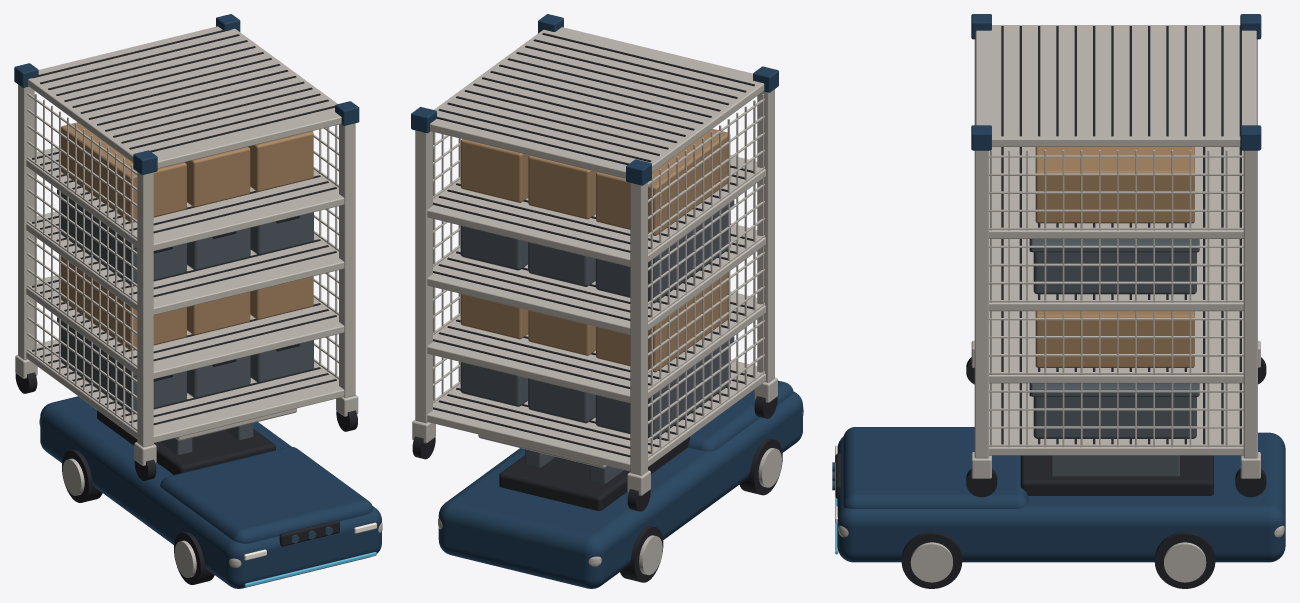
Rendered from robots-33.glb.
3 renders of one model, left to right at view 1: azimuth 30°, elevation 25°; view 2: azimuth 150°, elevation 25°; view 3: azimuth 270°, elevation 25°, orthographic. The views are drawn at different scales.
Visible parts, largest first — view 1: shelves, shell, boxes, frame, guards, totes, lift, wheels, casters, lights, sensors; view 2: shelves, shell, boxes, guards, frame, totes, lift, wheels, casters; view 3: shelves, shell, guards, boxes, totes, frame, lift, wheels, casters.
Boxes of the visible parts, <box> form: shelves: <box>26,26,344,442</box>; shell: <box>39,396,382,588</box>; boxes: <box>61,122,313,350</box>; frame: <box>14,14,359,447</box>; guards: <box>27,93,338,430</box>; totes: <box>57,189,313,413</box>; lift: <box>97,408,296,474</box>; wheels: <box>62,449,214,584</box>; casters: <box>15,355,358,480</box>; lights: <box>244,522,376,587</box>; sensors: <box>279,520,339,546</box>; shelves: <box>427,27,765,471</box>; shell: <box>438,380,803,588</box>; boxes: <box>460,129,730,372</box>; guards: <box>433,94,764,458</box>; frame: <box>411,14,778,475</box>; totes: <box>460,200,734,439</box>; lift: <box>478,434,689,510</box>; wheels: <box>620,438,782,582</box>; casters: <box>412,377,777,511</box>; shelves: <box>975,25,1256,455</box>; shell: <box>837,427,1285,562</box>; guards: <box>989,150,1243,447</box>; boxes: <box>1035,147,1194,367</box>; totes: <box>1029,239,1199,438</box>; frame: <box>971,14,1261,458</box>; lift: <box>1020,455,1213,495</box>; wheels: <box>901,532,1215,588</box>; casters: <box>966,340,1266,497</box>.
Size of the model in its own units: 1.43 by 2.61 by 2.28.
